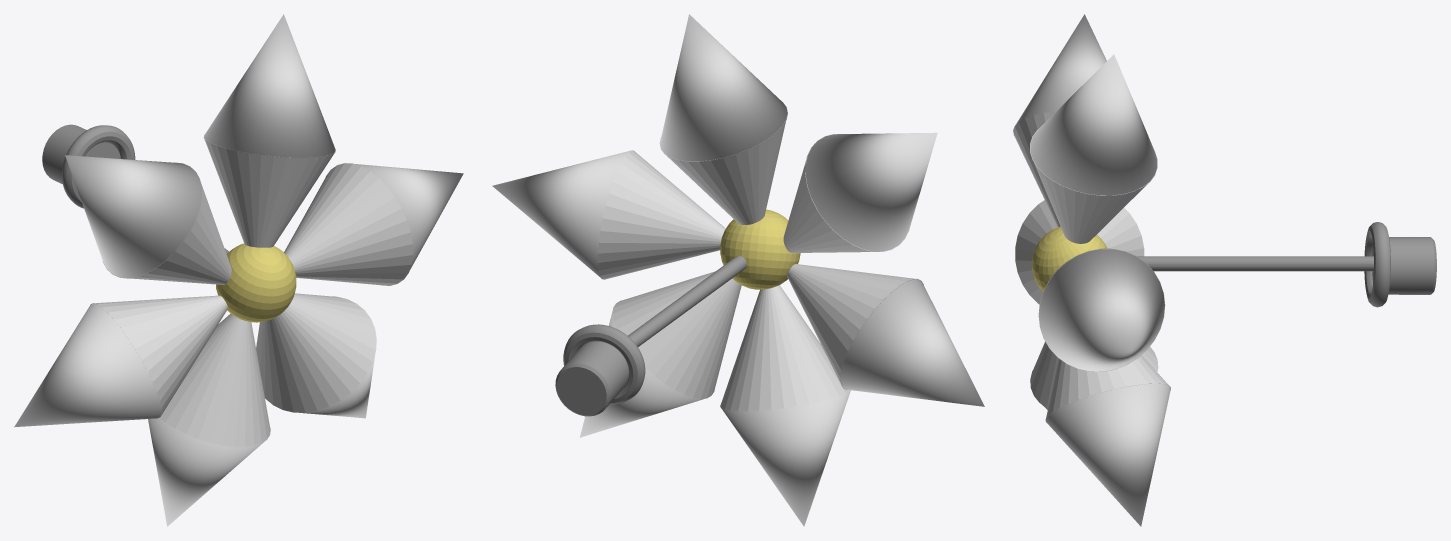
File: flower.glb
3 views of the same model, side by side, from view 1: azimuth 30°, elevation 25°; view 2: azimuth 150°, elevation 25°; view 3: azimuth 270°, elevation 25° (orthographic). The views are drawn at different scales.
Visible parts, largest first — view 1: Cone.009, Cone.001, Cone.003, Cone.006, Cone.011, Cone.005, Cone.007, Cone.010, Cone.004, Sphere, Cone, Cone.008 (+3 smaller); view 2: Cone.009, Cone.011, Cone.006, Cone.001, Cone.005, Cone.003, Cone.004, Cone, Cone.007, Cone.010, Sphere, Cylinder.001 (+4 smaller); view 3: Cone, Cone.011, Cone.002, Cylinder, Cone.009, Cone.007, Cone.010, Cone.003, Cylinder.001, Sphere, Torus, Cone.005 (+1 smaller).
Part boxes in pixels (box(x1,y1,x2,y2)): Cone.009: box(65, 155, 201, 278); Cone.001: box(284, 163, 413, 285); Cone.003: box(256, 293, 376, 412); Cone.006: box(14, 303, 161, 427); Cone.011: box(204, 14, 335, 158); Cone.005: box(159, 313, 270, 447); Cone.007: box(90, 295, 227, 418); Cone.010: box(203, 135, 335, 247); Cone.004: box(148, 418, 270, 526); Sphere: box(216, 243, 296, 322); Cone: box(326, 163, 463, 285); Cone.008: box(102, 162, 231, 284); Cone.009: box(805, 132, 937, 251); Cone.011: box(660, 14, 787, 161); Cone.006: box(840, 278, 984, 406); Cone.001: box(597, 150, 725, 279); Cone.005: box(720, 285, 850, 411); Cone.003: box(612, 271, 741, 399); Cone.004: box(720, 390, 850, 526); Cone: box(492, 150, 633, 279); Cone.007: box(787, 264, 923, 389); Cone.010: box(659, 102, 787, 224); Sphere: box(720, 209, 800, 289); Cylinder.001: box(555, 341, 628, 416); Cone: box(1038, 248, 1164, 371); Cone.011: box(1030, 54, 1157, 195); Cone.002: box(1046, 383, 1170, 526); Cylinder: box(1137, 256, 1373, 271); Cone.009: box(1013, 14, 1106, 134); Cone.007: box(1015, 200, 1143, 304); Cone.010: box(1030, 130, 1157, 243); Cone.003: box(1045, 355, 1170, 420); Cylinder.001: box(1372, 237, 1436, 294); Sphere: box(1032, 226, 1107, 291); Torus: box(1364, 222, 1390, 307); Cone.005: box(1030, 341, 1158, 408).
Size of the model in its own units: 6.71 by 6.59 by 5.35.
